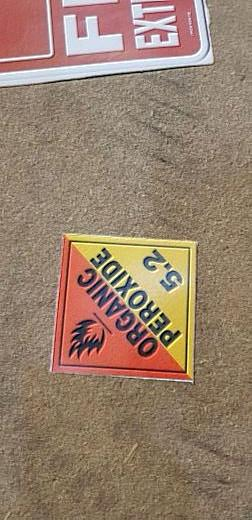organic-peroxide: (51, 233, 197, 384)
